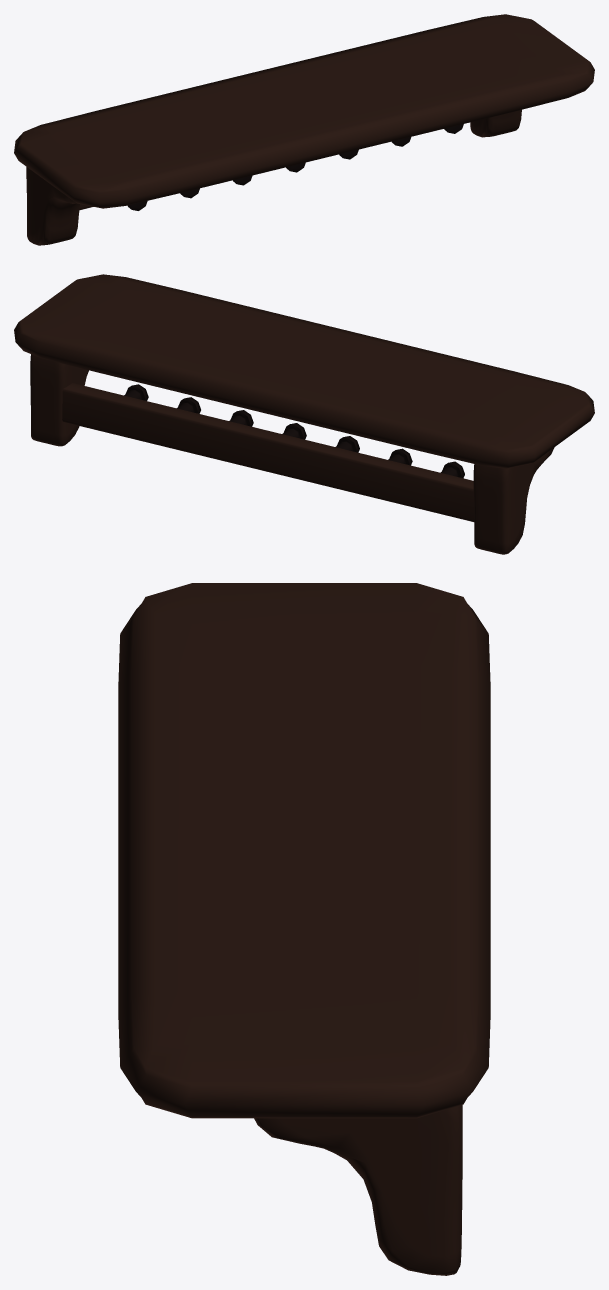
Rendered from Mesh_Shelves_Tex_001.fbx.
3 views of the same model, one above another, from view 1: azimuth 30°, elevation 25°; view 2: azimuth 150°, elevation 25°; view 3: azimuth 270°, elevation 25° (orthographic). The views are drawn at different scales.
Parts seen in each view (by area): view 1: Mesh_Shelf (×2); view 2: Mesh_Shelf (×2); view 3: Mesh_Shelf.
Part boxes in pixels (x1=…): Mesh_Shelf (×2): x1=14, y1=14, x2=594, y2=245; Mesh_Shelf (×2): x1=14, y1=274, x2=594, y2=554; Mesh_Shelf: x1=118, y1=583, x2=490, y2=1275.
Size of the model in its own units: 986 by 197 by 305.
